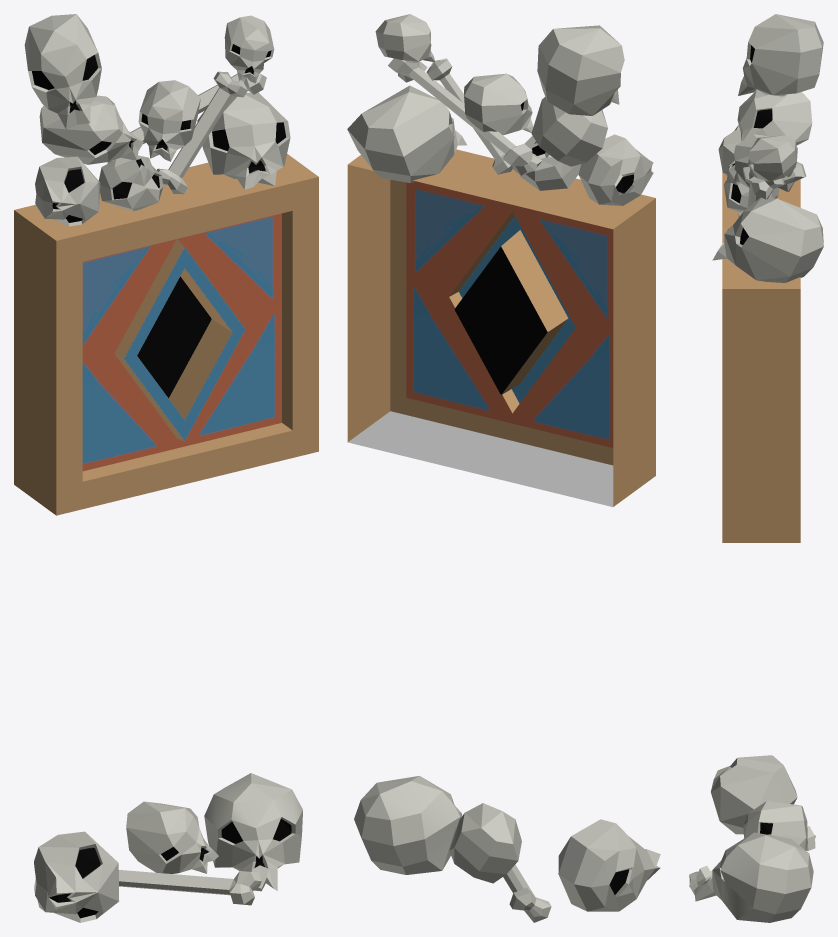
File: 3D_trap_darts.fbx
The picture shows the model from 3 angles, left to right: view 1: azimuth 30°, elevation 25°; view 2: azimuth 150°, elevation 25°; view 3: azimuth 270°, elevation 25°; orthographic projection. The views are drawn at different scales.
Parts seen in each view (by area): view 1: SM_trap_darts; view 2: SM_trap_darts; view 3: SM_trap_darts.
Part boxes in pixels (left/top/right/bottom): SM_trap_darts: left=14, top=14, right=318, bottom=922; SM_trap_darts: left=347, top=14, right=660, bottom=922; SM_trap_darts: left=689, top=14, right=823, bottom=922.
Size of the model in its own units: 74.04 by 233 by 34.78.
Materials: 1 (1 with a texture image).
